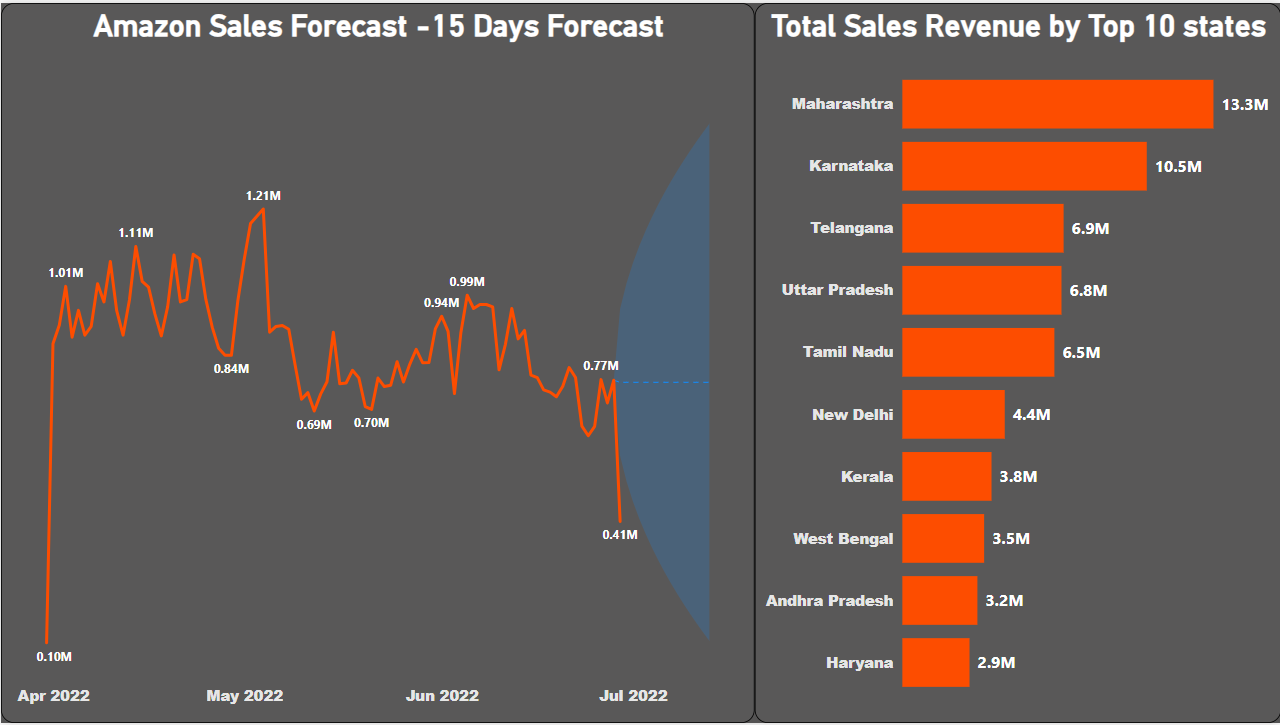

This screenshot's page, from the dashboard's own definition file:
{"tool":"powerbi","page":{"name":"Page 2","canvas":[1280,720],"ordinal":1},"visuals":[{"type":"lineChart","title":"Amazon Sales Forecast -15 Days Forecast","fields":{"Y":["Amazon Sale Report (1).Total Sales Revenue"],"Category":["Amazon Sale Report (1).Date"]},"box":[0,0,753.8,720],"z":0},{"type":"barChart","title":"Total Sales Revenue by Top 10  states","fields":{"Y":["Amazon Sale Report (1).Total Sales Revenue"],"Category":["Amazon Sale Report (1).ship-state"]},"box":[753.8,0,526.2,720],"z":1000}]}

Visuals, with their boxes in screenshot pixels (x1, y1, x2, y2), scaled from the page's 1280x720 canvas onto the 1280x725 screenshot:
"Amazon Sales Forecast -15 Days Forecast" lineChart: {"x1": 0, "y1": 0, "x2": 754, "y2": 724}
"Total Sales Revenue by Top 10  states" barChart: {"x1": 754, "y1": 0, "x2": 1279, "y2": 724}
